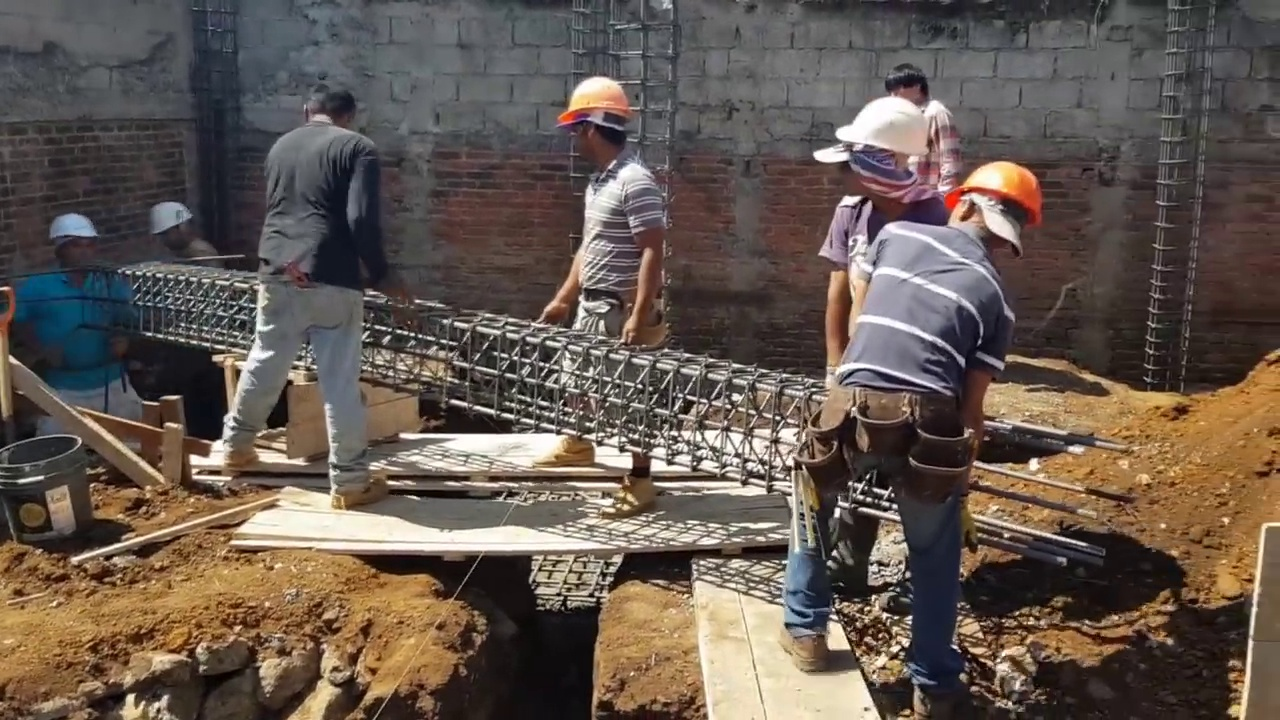helmet: (830, 96, 931, 164), (952, 162, 1043, 230), (553, 73, 634, 134), (43, 210, 98, 242), (147, 200, 192, 238)
helmet-off: (302, 85, 359, 133), (886, 62, 932, 106)
helmet-on: (831, 95, 932, 213), (944, 159, 1044, 271), (554, 73, 632, 176), (43, 214, 97, 277), (146, 200, 193, 257)
person: (802, 95, 1044, 698), (209, 85, 394, 521), (531, 67, 669, 485), (816, 92, 957, 395), (3, 206, 146, 448), (884, 63, 962, 195), (142, 190, 226, 278)
